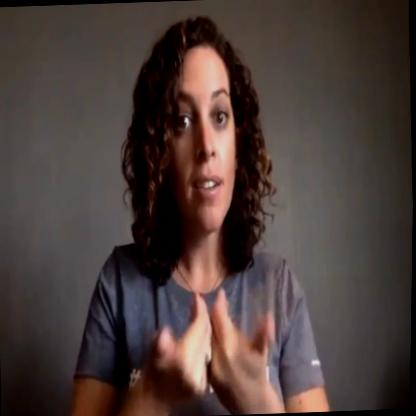HowAreYou: (144, 271, 283, 416)
